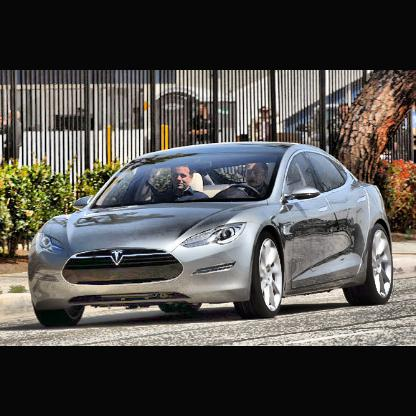Tesla Model S Sedan 2012: (30, 143, 395, 328)
